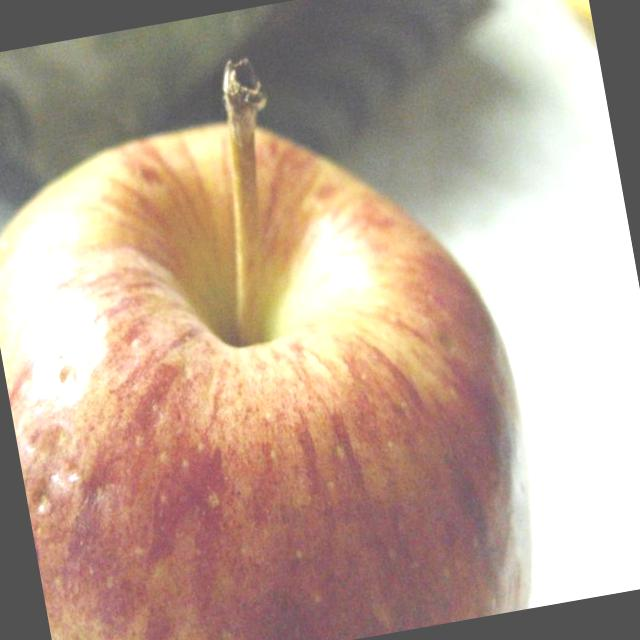Apple: (0, 18, 555, 640)
